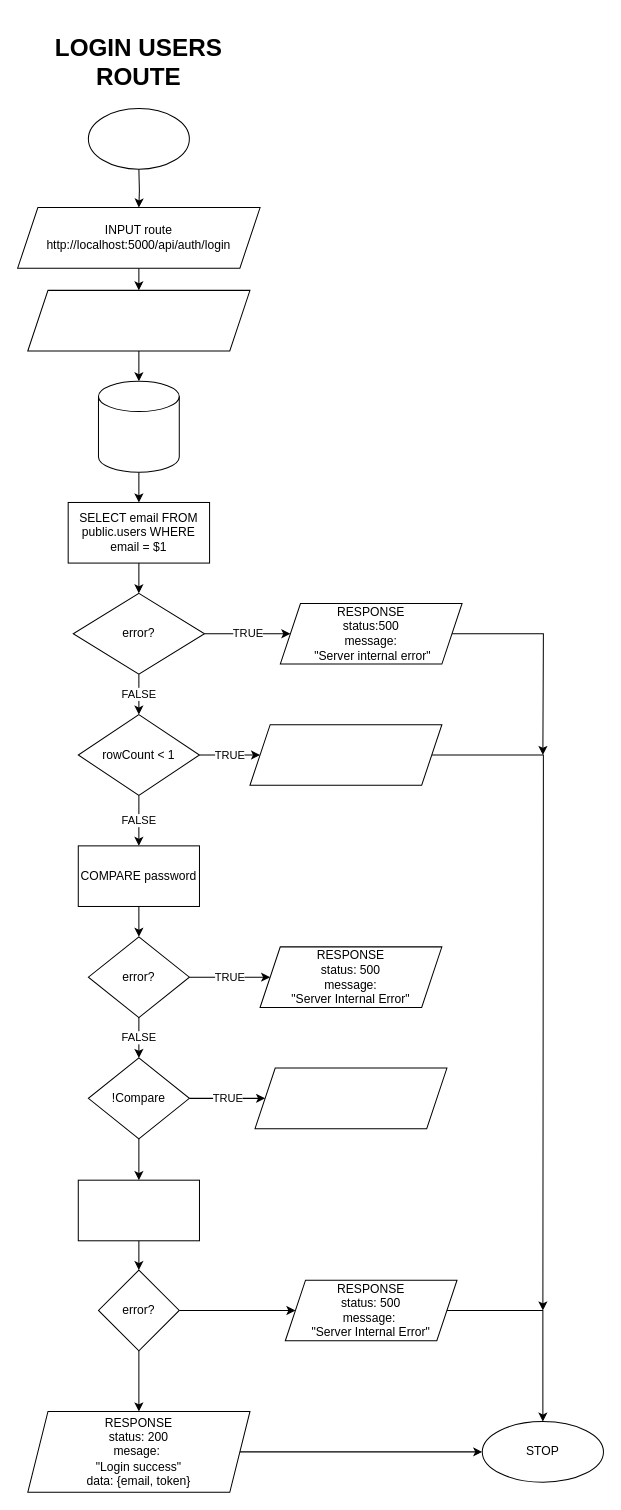
Some shapes in this 621 by 1510 pixel diagram are drawn without their labels. Each missing label, with the centre of its shape:
access to dizzy_coffee database: point 138,426
INPUT email, password REQUEST BODY: point 138,320
RESPONSE status: 400 message: "Password is wrong": point 350,1098
RESPONSE status: 404 message: "User not found": point 345,754
SIGN payload, SECRET_KEY, expiredPayload: point 138,1210
START: point 138,138
